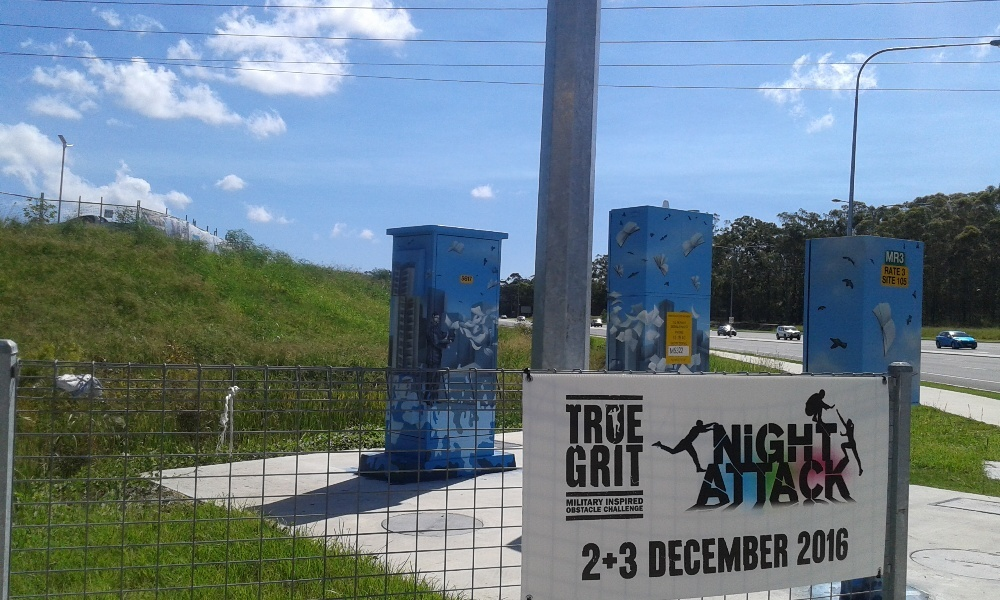text: (721, 458, 736, 508), (737, 458, 752, 508), (753, 458, 768, 508), (769, 458, 784, 508), (785, 458, 800, 508), (801, 458, 816, 508), (817, 458, 832, 508), (833, 458, 848, 508), (657, 533, 672, 580), (673, 533, 688, 580), (689, 533, 704, 580), (705, 533, 720, 580), (721, 533, 736, 580), (737, 533, 752, 580), (753, 533, 768, 580), (769, 533, 784, 580), (577, 444, 592, 489), (593, 444, 608, 489), (609, 444, 624, 489), (625, 444, 640, 489), (721, 423, 736, 465), (737, 423, 752, 465), (753, 423, 768, 465), (769, 423, 784, 465), (785, 423, 800, 465), (801, 423, 816, 465), (817, 423, 832, 465), (577, 404, 592, 445), (593, 404, 608, 445), (609, 404, 624, 445), (625, 404, 640, 445), (593, 542, 608, 582), (609, 542, 624, 582), (801, 527, 816, 567), (817, 527, 832, 567), (833, 527, 848, 567), (708, 458, 720, 508), (625, 542, 638, 582), (565, 404, 576, 445), (566, 444, 576, 489), (582, 542, 592, 582), (649, 533, 656, 580), (713, 423, 720, 465), (833, 423, 839, 465), (785, 533, 789, 580), (849, 458, 852, 508), (882, 275, 896, 285), (897, 277, 912, 286), (641, 444, 644, 489), (609, 497, 624, 506), (625, 497, 640, 506), (884, 266, 896, 277), (886, 250, 896, 263), (673, 321, 689, 329), (641, 404, 644, 445), (797, 527, 800, 567), (577, 499, 592, 507), (609, 505, 624, 513), (625, 505, 640, 513), (897, 250, 906, 263), (897, 266, 907, 277), (577, 507, 592, 514), (593, 499, 604, 507), (566, 499, 576, 507), (673, 348, 684, 355), (566, 507, 576, 514), (593, 507, 602, 514), (673, 342, 688, 346), (674, 331, 688, 335), (677, 335, 688, 340), (465, 276, 473, 282), (673, 315, 688, 318), (849, 527, 850, 567), (673, 359, 686, 362), (604, 505, 608, 513), (641, 497, 644, 506), (460, 276, 464, 282), (641, 505, 644, 513), (673, 335, 677, 340), (606, 497, 608, 506), (670, 348, 672, 355), (668, 315, 672, 318), (689, 315, 692, 318), (670, 342, 672, 346)
